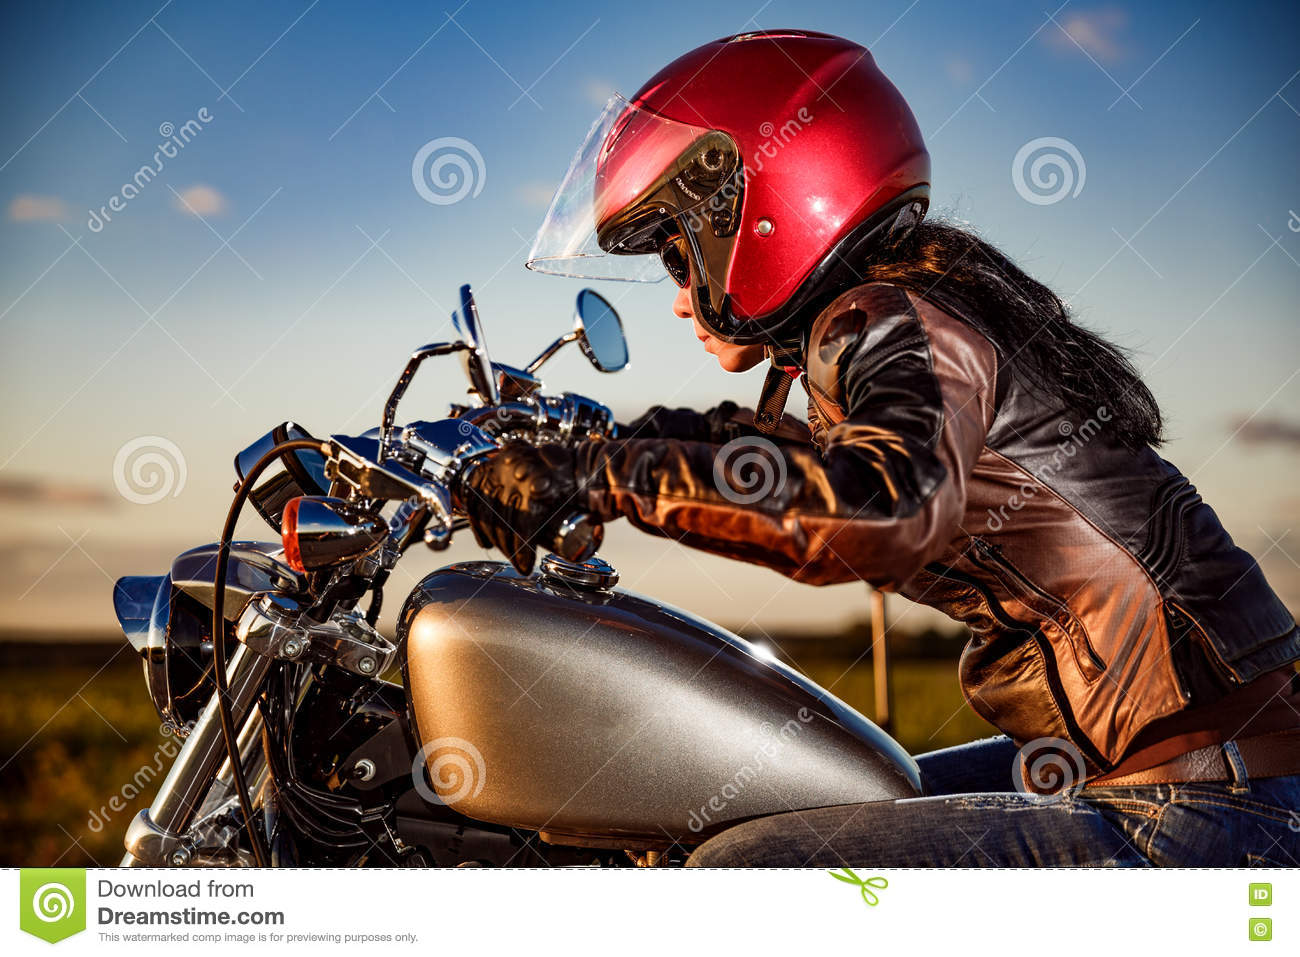helmet: (599, 20, 920, 320)
